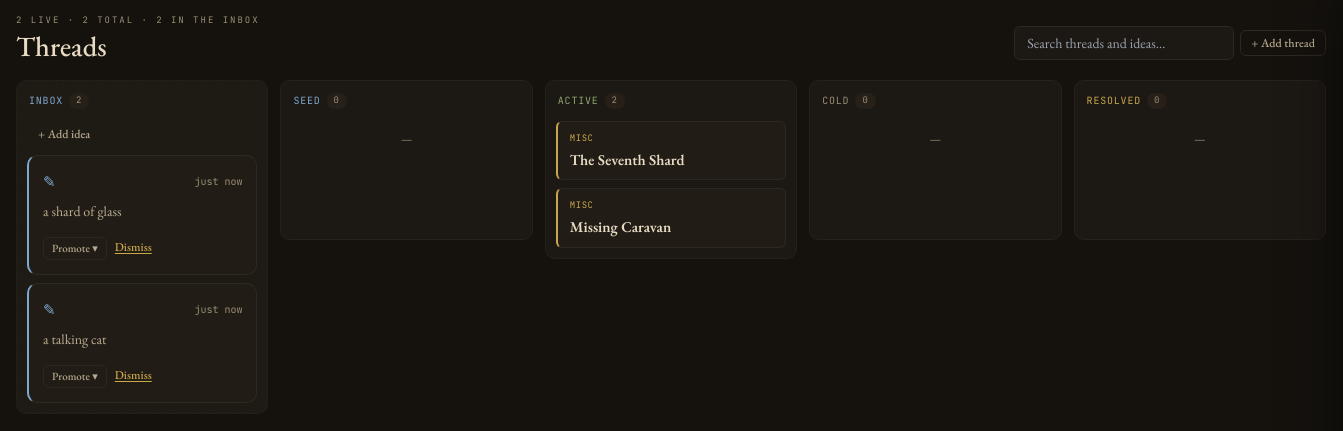
Scenario: Threads board › filters threads and ideas by search text
The width and height of the screenshot is (1343, 431).
Type "shard" into the field with placeholder "Search threads and ideas…".
click(1124, 43); type("shard")  # box [1014,26,1234,60]
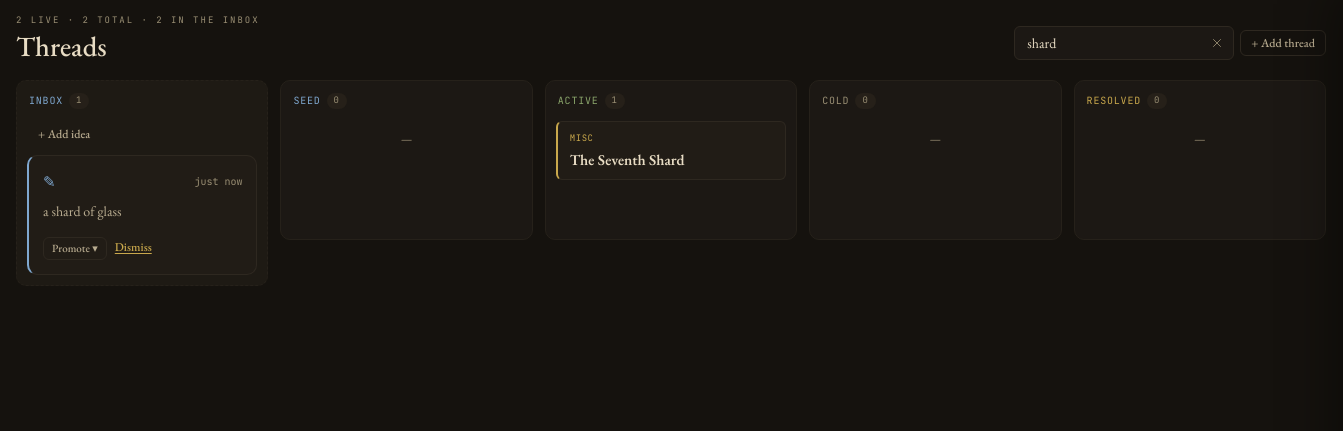
Expected: the text "The Seventh Shard" is shown, [570,150,685,169]
Expected: the button "Missing Caravan" is gone
Expected: the text "a talking cat" is gone
